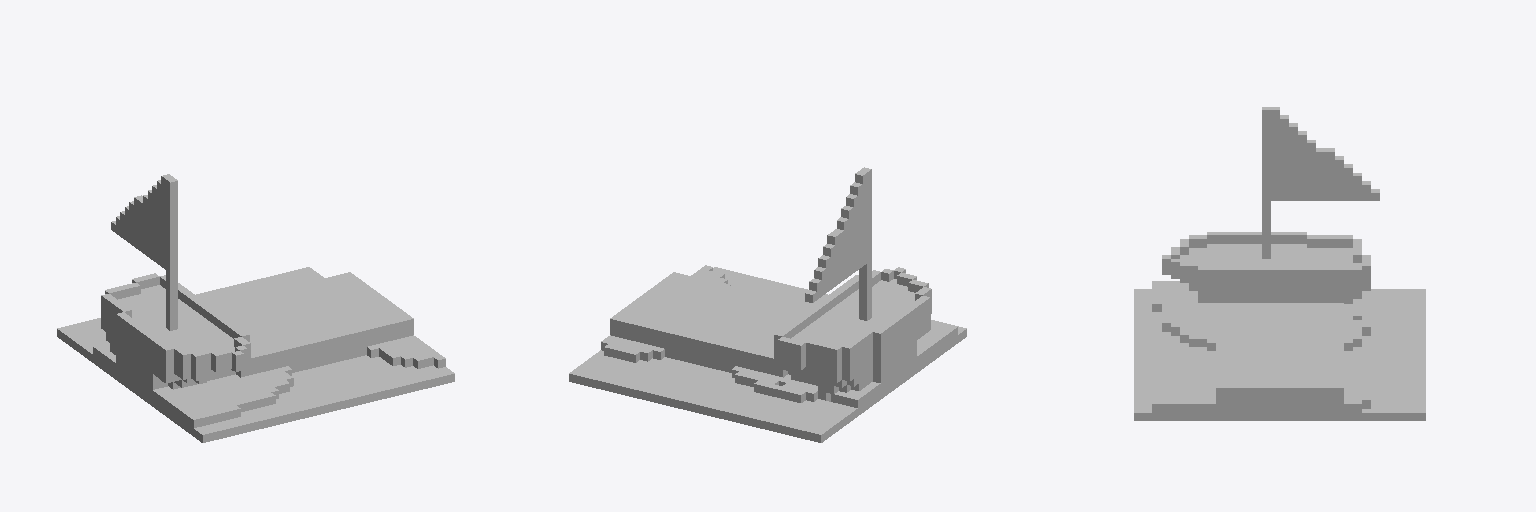
File: ship.obj
3 views of the same model, side by side, from view 1: azimuth 30°, elevation 25°; view 2: azimuth 150°, elevation 25°; view 3: azimuth 270°, elevation 25° (orthographic).
Visible parts, largest first — view 1: object 1; view 2: object 1; view 3: object 1.
Part boxes in pixels (x1,y1,x2,y2): object 1: (57,174,454,442); object 1: (569,167,966,442); object 1: (1134,107,1425,420).
Size of the model in its own units: 3.2 by 2.5 by 3.2.